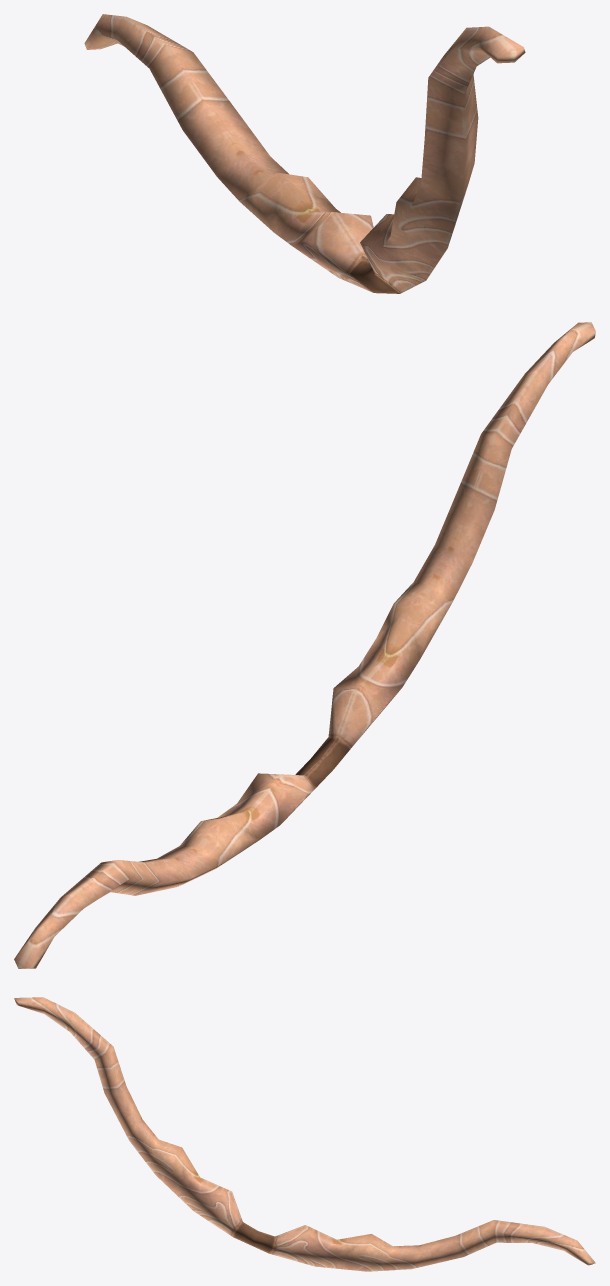
The model's file is bow-ironweapons.glb.
The picture shows the model from 3 angles, top to bottom: view 1: azimuth 30°, elevation 25°; view 2: azimuth 150°, elevation 25°; view 3: azimuth 270°, elevation 25°; orthographic projection. The views are drawn at different scales.
Bounding box in the file's own units: 0.2762 × 0.6958 × 1.51.
Materials: 1 (1 with a texture image).
